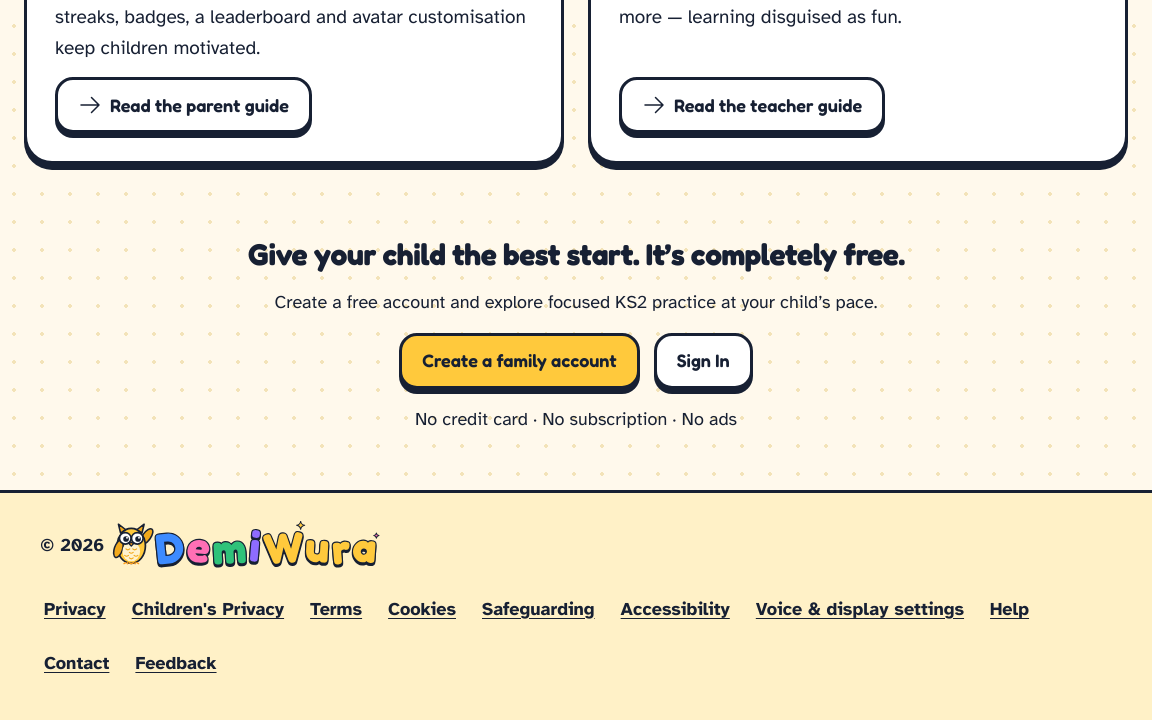
Test: public landing navigation › keeps the registration target for Create a family account action 1
(page scrolled)
Click the button "Create a family account": (520, 361) [399,333,640,389]
(page scrolled)
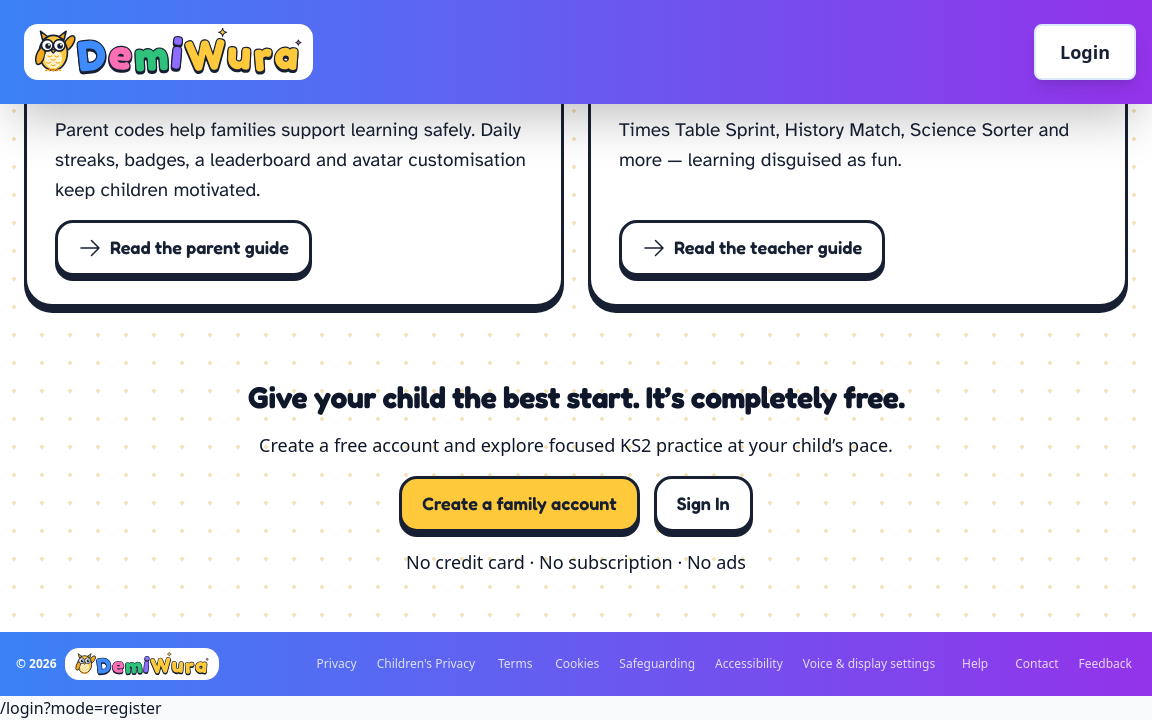
Expected: the text named "Current route" reads "/login?mode=register", [0,697,162,719]
